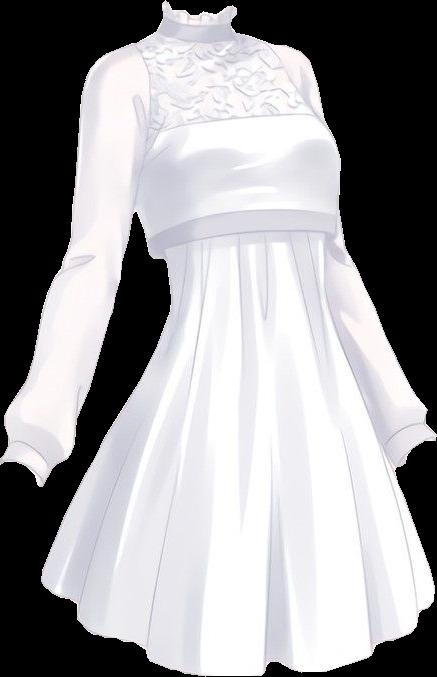Bodice: (129, 1, 340, 258)
Hemline: (39, 575, 436, 676)
Neckline: (142, 106, 325, 145), (161, 0, 238, 21), (153, 28, 236, 47)
Skirt: (41, 234, 434, 673)
Sleeve: (0, 41, 145, 486)
Sleeveline: (132, 45, 151, 148), (8, 437, 55, 468)
Waistline: (152, 228, 338, 260)
